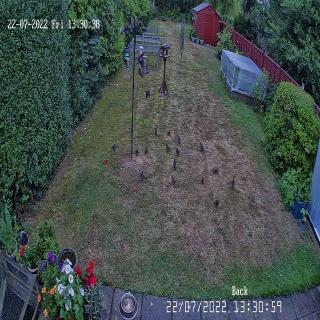bird: (144, 88, 152, 101), (170, 174, 178, 186), (136, 52, 144, 64), (111, 142, 117, 152), (138, 66, 143, 78), (214, 198, 220, 208), (178, 132, 182, 146), (232, 174, 236, 188), (166, 128, 172, 137), (126, 23, 132, 32), (140, 170, 144, 182), (173, 158, 177, 170), (138, 20, 144, 28), (213, 167, 219, 175), (144, 146, 149, 154), (200, 142, 204, 152), (131, 16, 134, 29), (166, 143, 170, 152), (176, 148, 180, 156), (154, 127, 158, 135), (200, 176, 204, 184), (135, 148, 139, 156)
